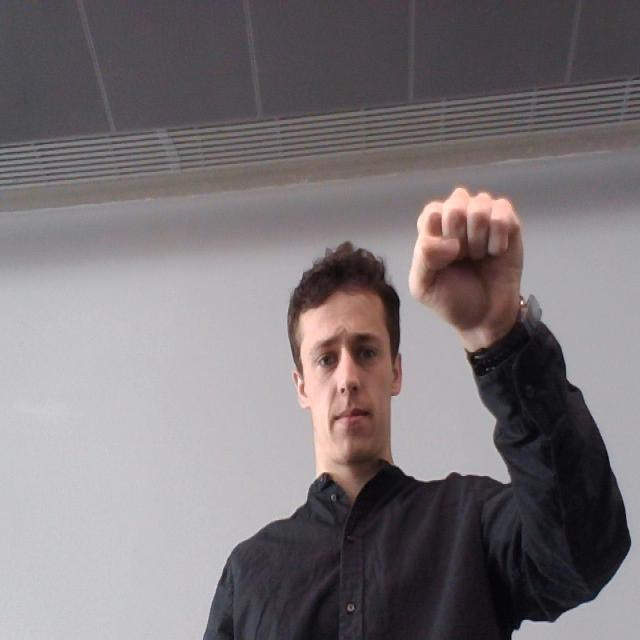stop: (410, 185, 526, 329)
